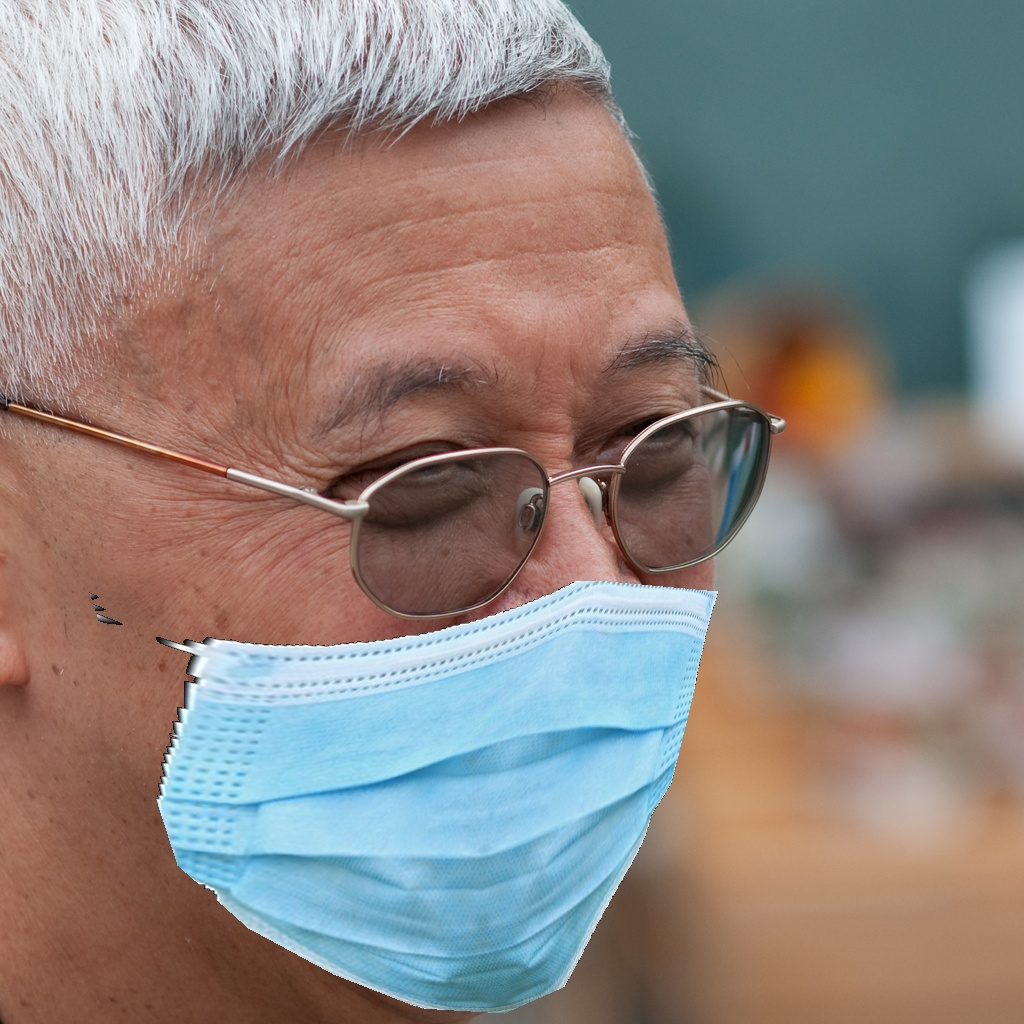Mask: (150, 315, 725, 1012)
